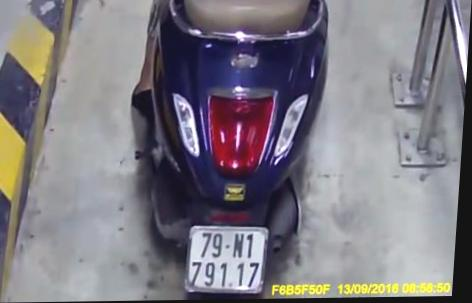License_Plate: (177, 223, 278, 299)
